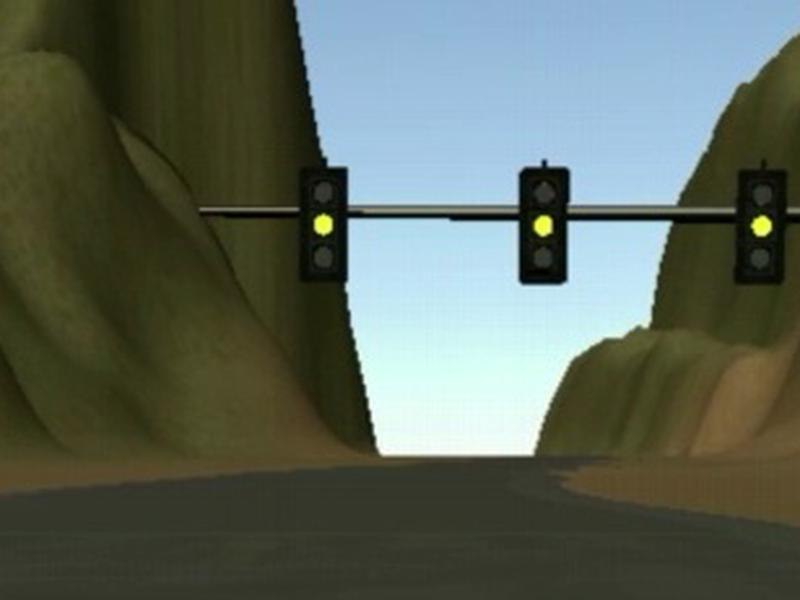Yellow: (734, 167, 789, 286), (519, 166, 569, 286), (299, 166, 347, 281)
